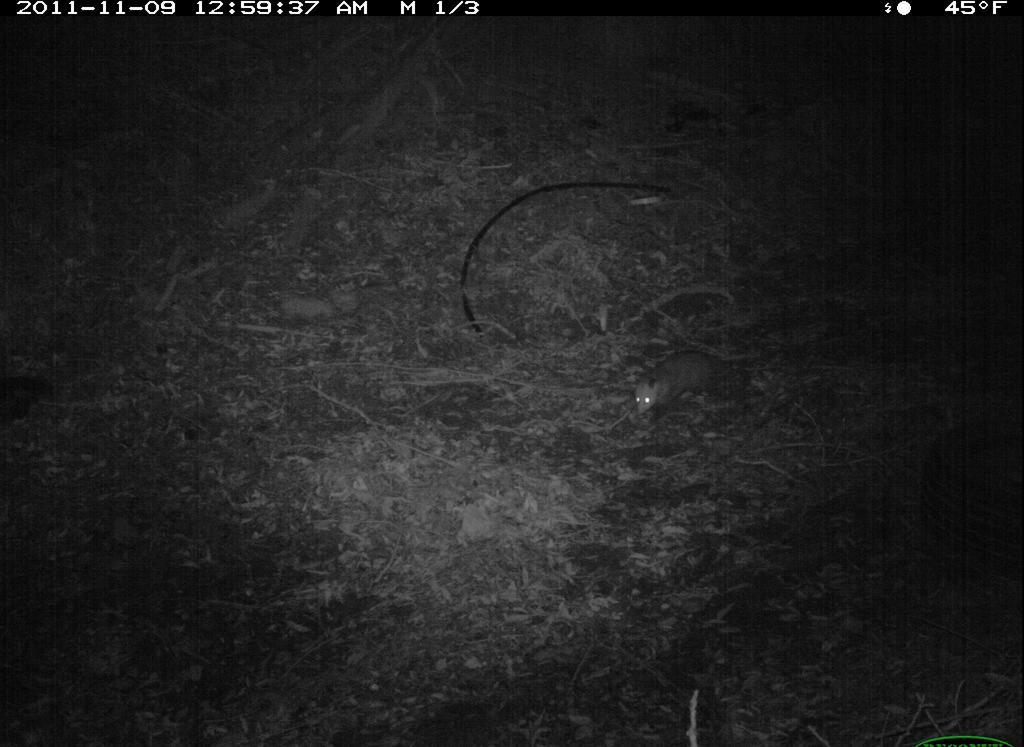opossum: (616, 351, 753, 428)
